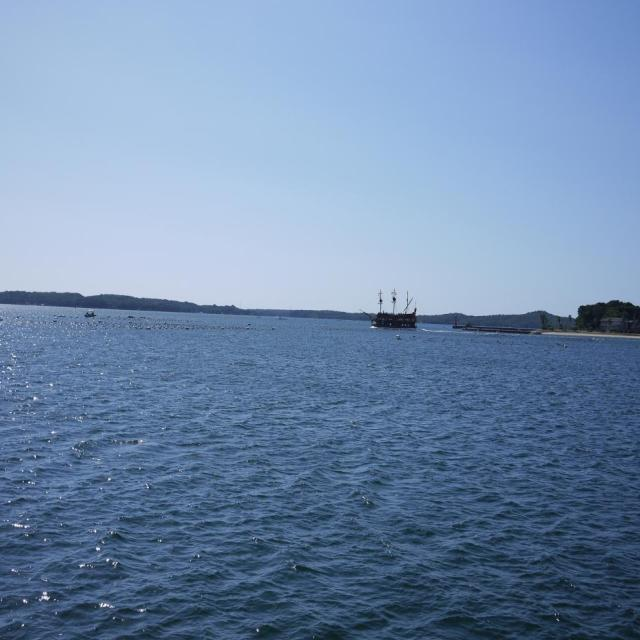fishing boat: (363, 281, 428, 330)
